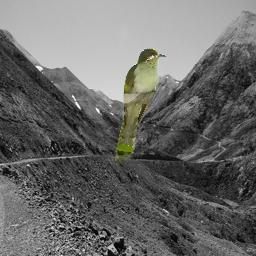Cuckoo: (115, 48, 167, 164)
